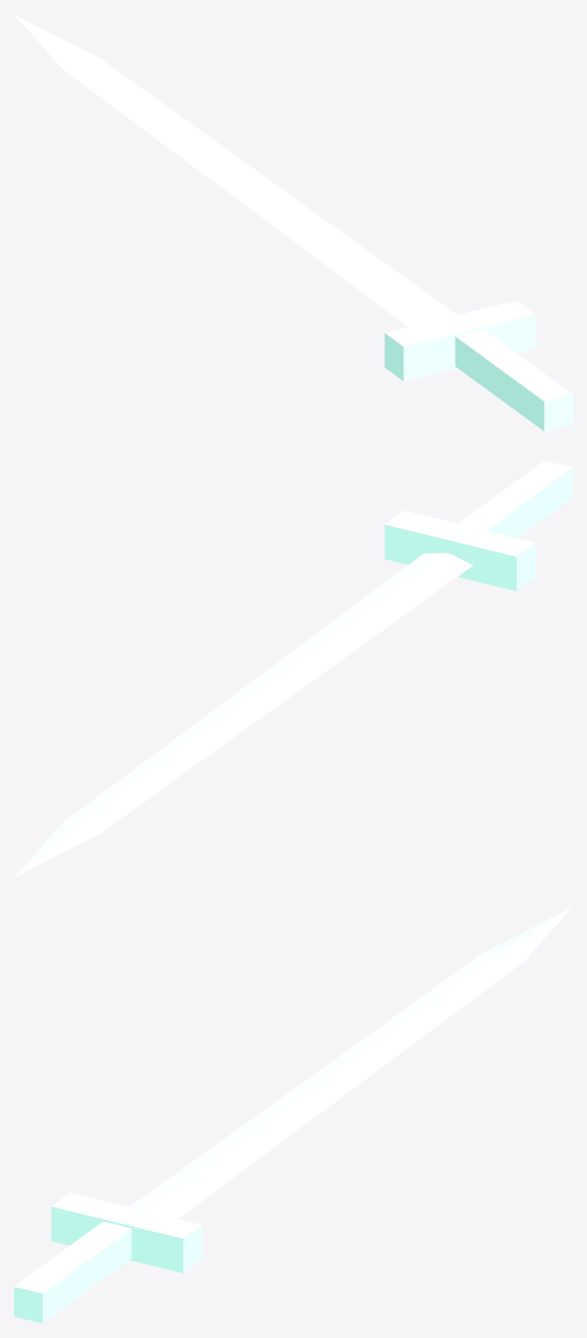
File: array_sword.glb
3 views of the same model, one above another, from view 1: azimuth 30°, elevation 25°; view 2: azimuth 150°, elevation 25°; view 3: azimuth 330°, elevation 25° (orthographic).
Visible parts, largest first — view 1: ArraySword; view 2: ArraySword; view 3: ArraySword.
Boxes of the visible parts, left/top/right/bottom form: ArraySword: left=14, top=14, right=572, bottom=431; ArraySword: left=14, top=460, right=572, bottom=877; ArraySword: left=14, top=906, right=572, bottom=1323.
Size of the model in its own units: 0.12 by 0.03 by 0.857.
